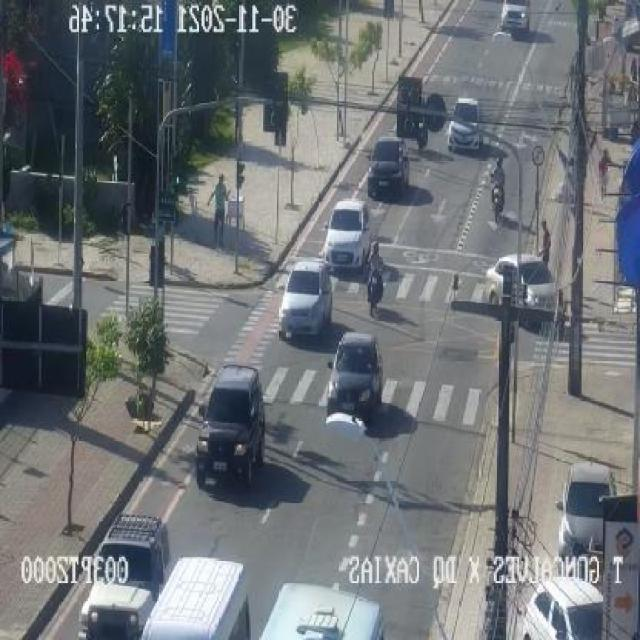Bus: (252, 581, 382, 640)
Car: (78, 514, 170, 640), (193, 364, 267, 492), (558, 462, 616, 558), (325, 334, 383, 427), (520, 577, 604, 640), (487, 253, 564, 314), (278, 261, 332, 339), (321, 199, 373, 273), (365, 136, 411, 201), (446, 96, 482, 152), (500, 0, 530, 32)
Cycle: (366, 264, 384, 316), (489, 172, 507, 223)
Van: (139, 556, 247, 640)
